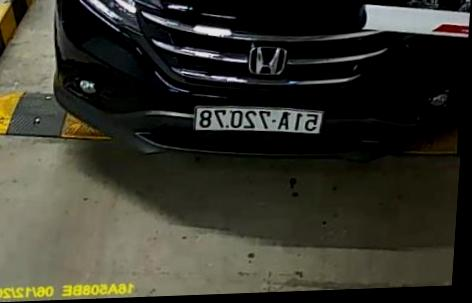License_Plate: (186, 101, 331, 140)
